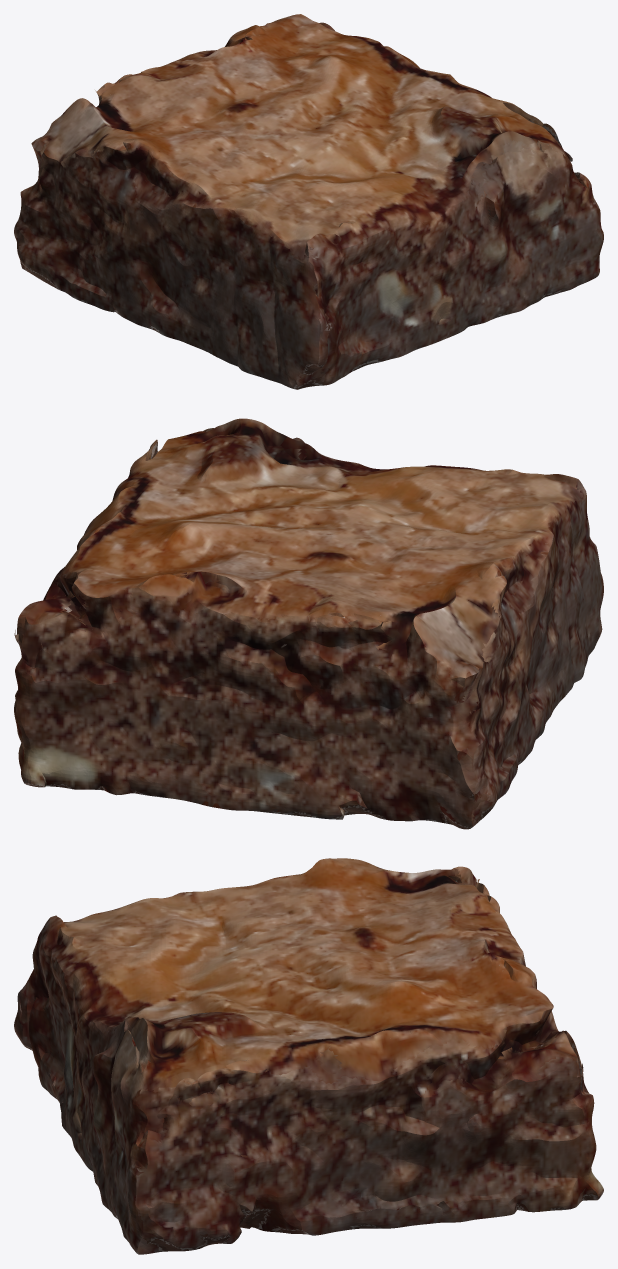
The model's file is model_New Qlone_20211210_201302423.obj.
3 views of the same model, one above another, from view 1: azimuth 30°, elevation 25°; view 2: azimuth 150°, elevation 25°; view 3: azimuth 270°, elevation 25° (orthographic). The views are drawn at different scales.
Size of the model in its own units: 89.15 by 32.94 by 91.09.
Materials: 1 (1 with a texture image).
